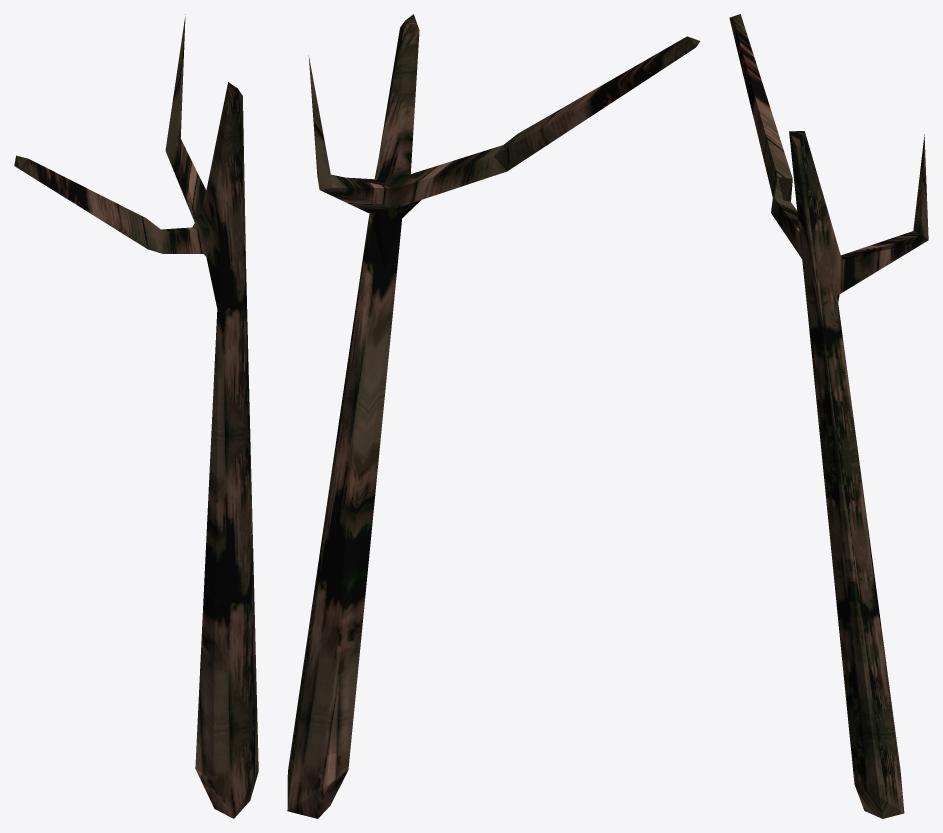
3 views of the same model, side by side, from view 1: azimuth 30°, elevation 25°; view 2: azimuth 150°, elevation 25°; view 3: azimuth 270°, elevation 25° (orthographic). The views are drawn at different scales.
Parts seen in each view (by area): view 1: BT_8; view 2: BT_8; view 3: BT_8.
Boxes of the visible parts, bbox=[...] form: BT_8: bbox=[14, 14, 258, 818]; BT_8: bbox=[287, 14, 700, 818]; BT_8: bbox=[729, 14, 928, 818].
Bounding box in the file's own units: 5.35 × 12.31 × 3.29.
Materials: 1 (1 with a texture image).
